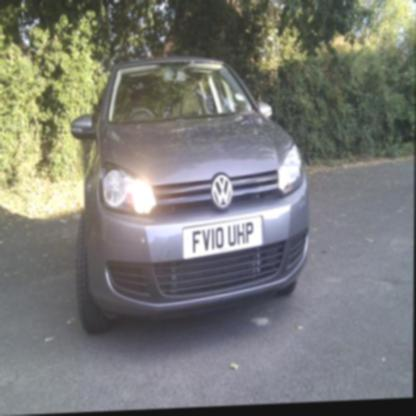License_Plate: (183, 217, 262, 261)
